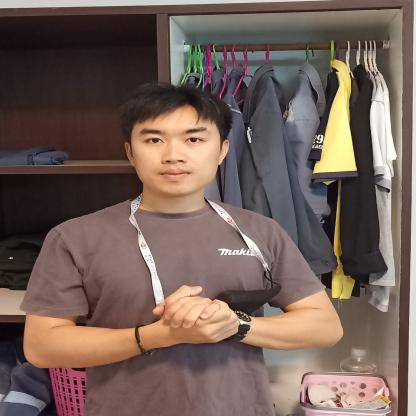Grieve: (130, 280, 296, 355)
